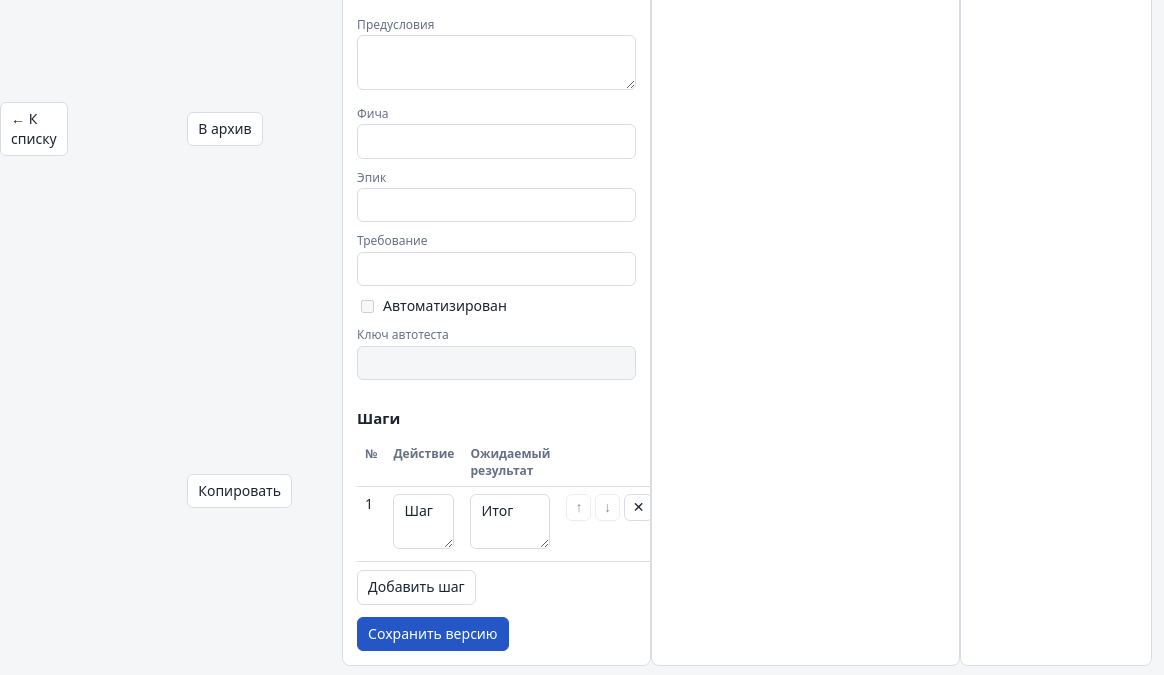
Test case: карточка кейса › ошибка проверки сервера подсвечивает поле
The image size is (1164, 675).
(page scrolled)
Click the button "Сохранить версию": (433, 634) x1=357 y1=617 x2=509 y2=651
(page scrolled)
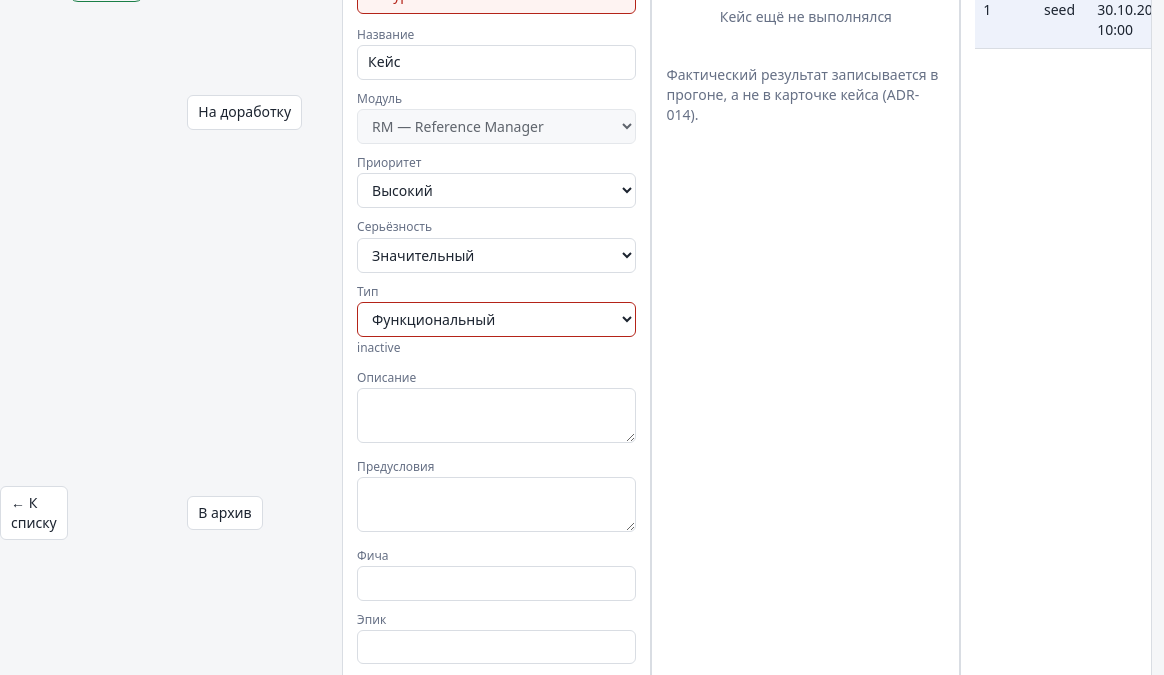
Now the text "inactive" is shown, box x1=357 y1=339 x2=400 y2=356
